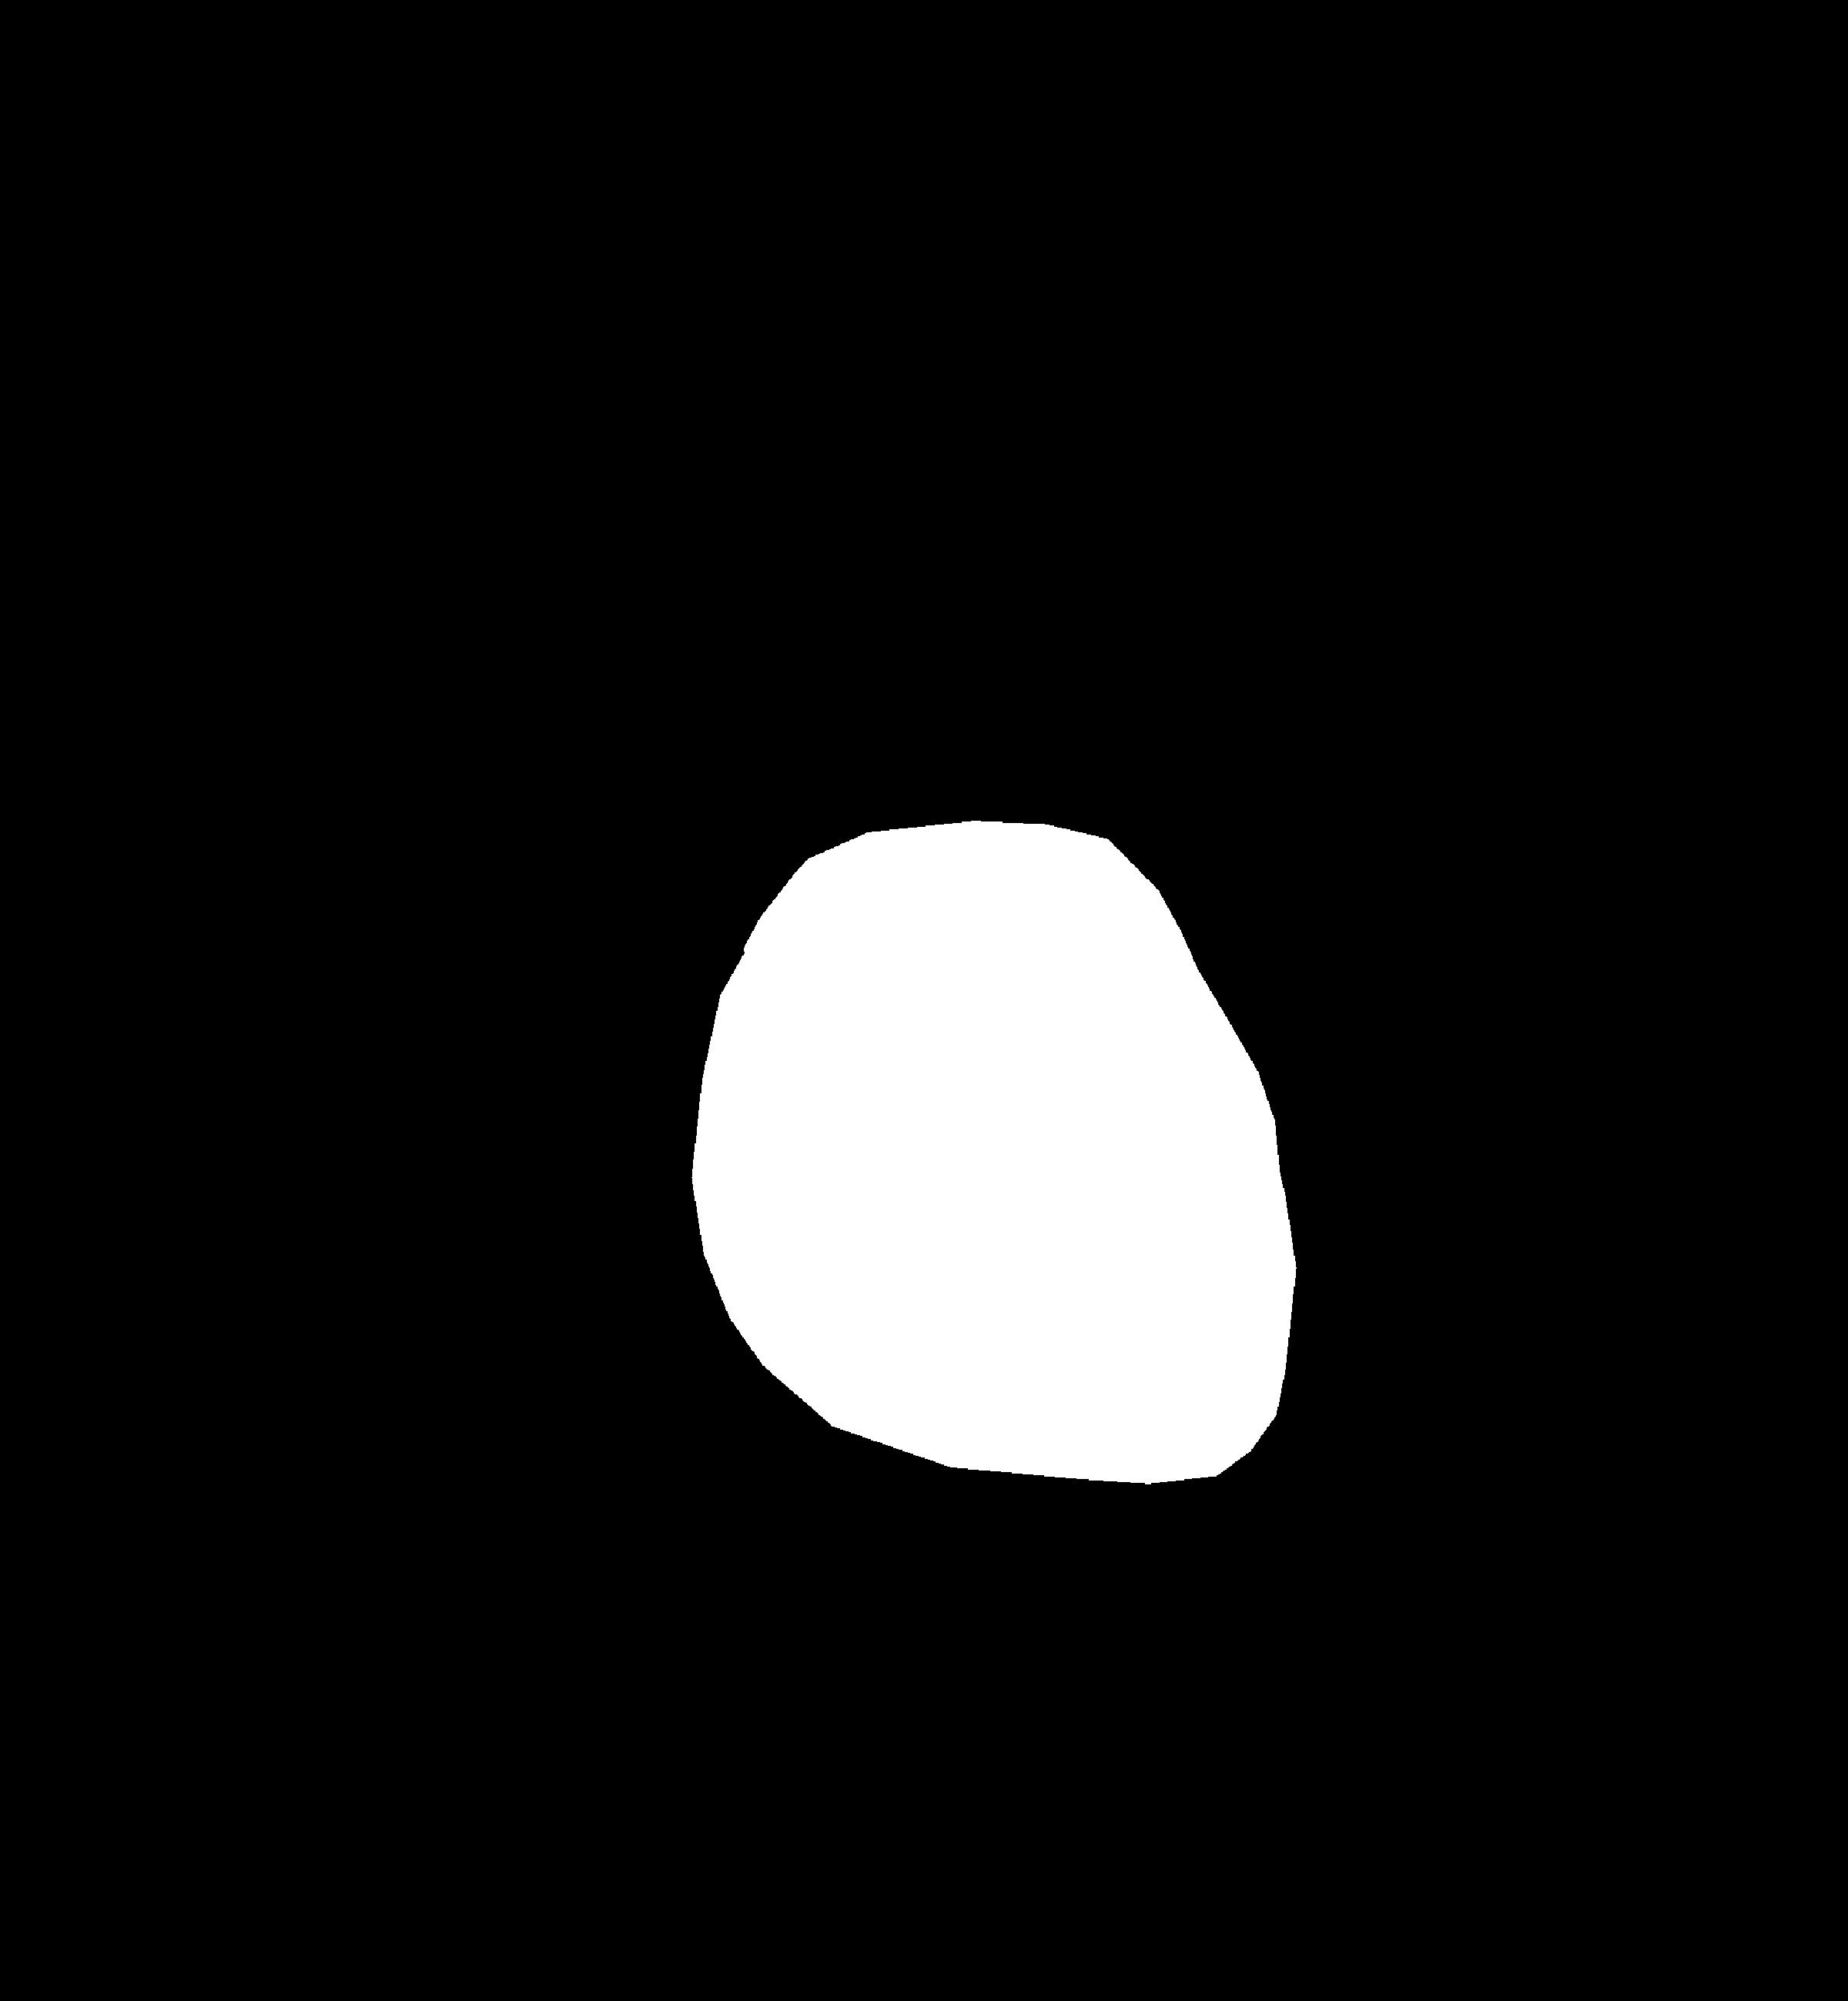heart: (699, 851, 1294, 1506)
left_lung: (188, 188, 859, 1734)
right_lung: (995, 197, 1627, 1703)
